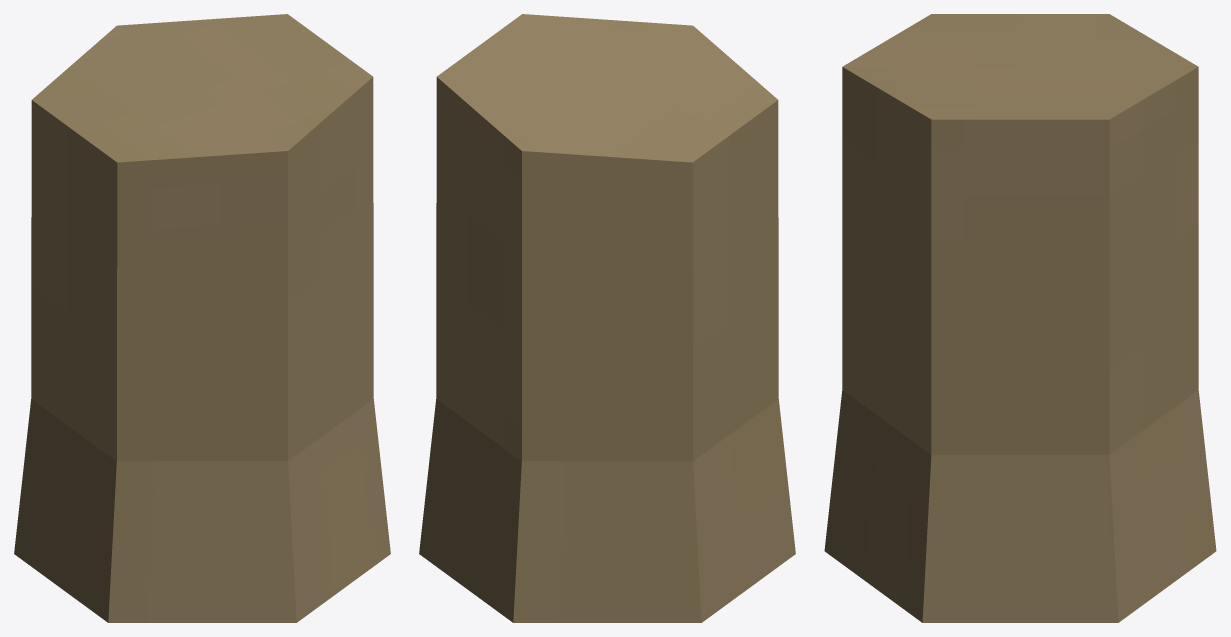
Rendered from candle.glb.
3 renders of one model, left to right at view 1: azimuth 30°, elevation 25°; view 2: azimuth 150°, elevation 25°; view 3: azimuth 270°, elevation 25°, orthographic. The views are drawn at different scales.
Parts seen in each view (by area): view 1: Cylinder.027; view 2: Cylinder.027; view 3: Cylinder.027.
Boxes of the visible parts, x1=… form: Cylinder.027: x1=14, y1=14, x2=390, y2=622; Cylinder.027: x1=419, y1=14, x2=795, y2=622; Cylinder.027: x1=824, y1=14, x2=1216, y2=622.
Bounding box in the file's own units: 0.3811 × 0.6151 × 0.44.
1 material, 1 textured.
